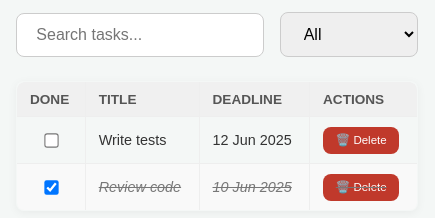
Test: TaskTable Component Tests › filters pending tasks only
Select "Pending" in the dropdown showing "All" at (349, 34), box 280,12 -> 418,57
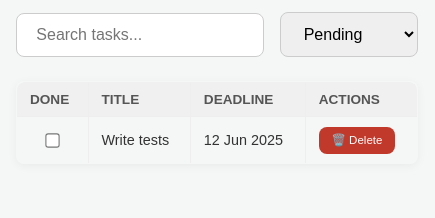
Expected: the text "Write tests" is shown, 88,117 -> 190,164
Now the text "Review code" is gone
